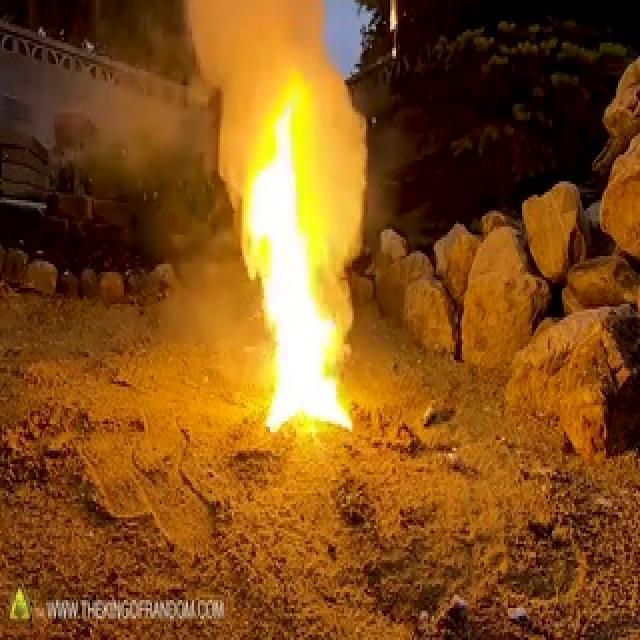Fire: (234, 154, 362, 440)
Smoke: (138, 3, 370, 160)
